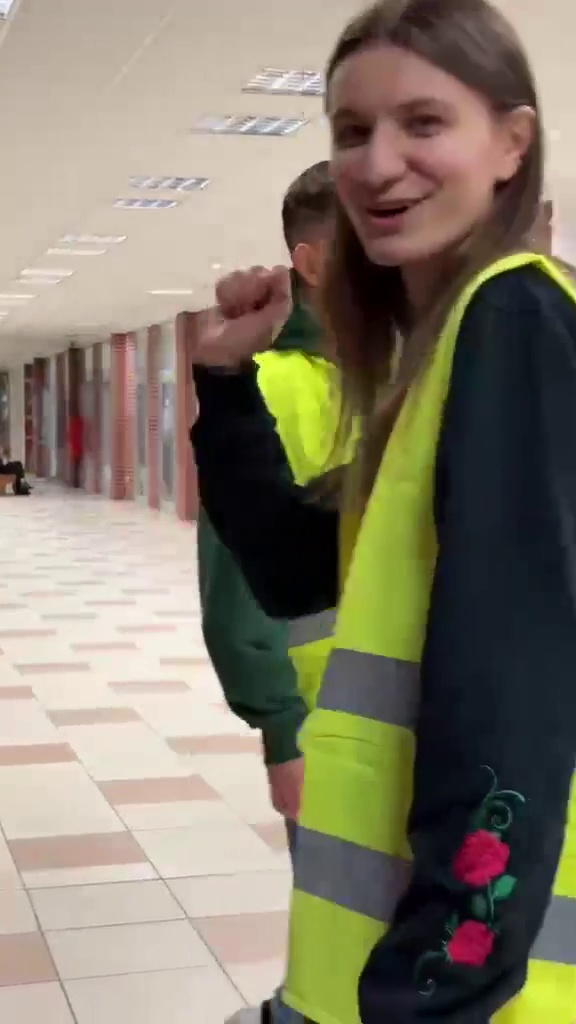vest: (183, 16, 576, 989)
